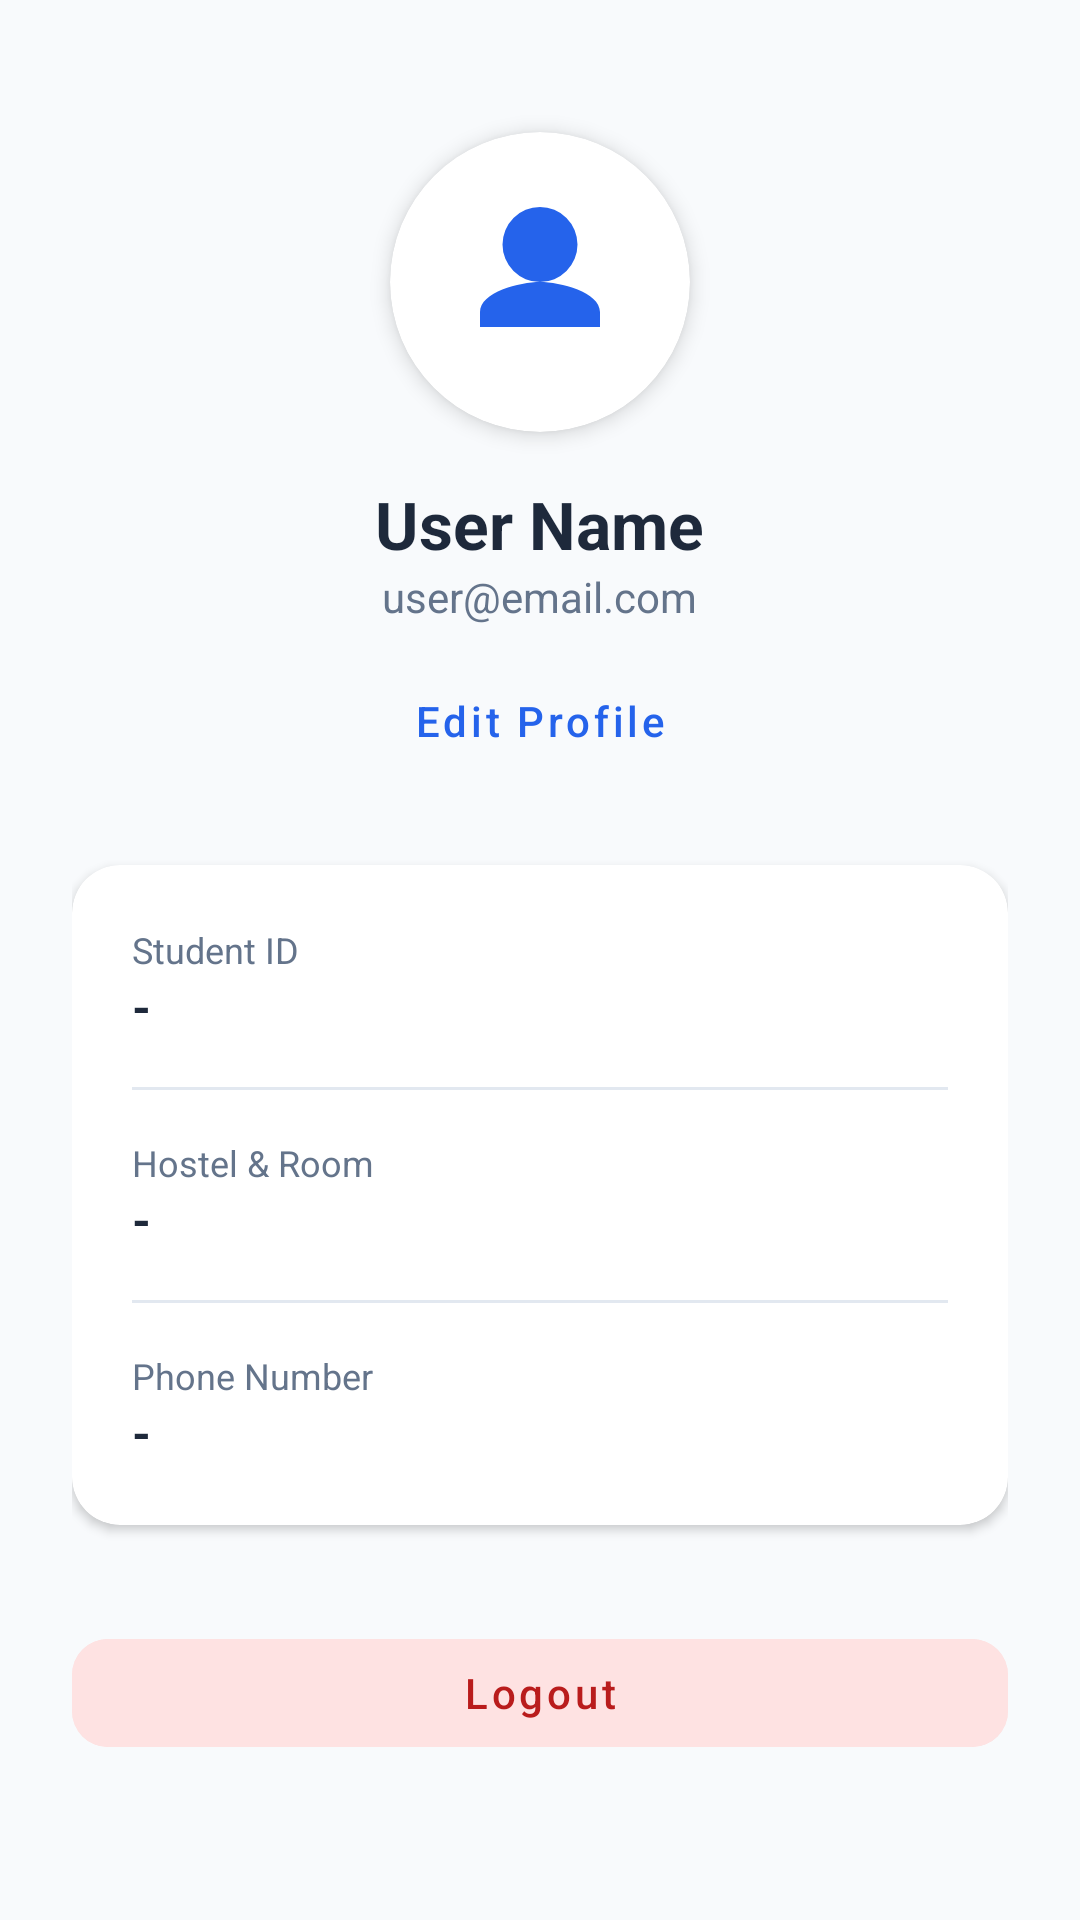

Screen size 1080×1920. Icon name, then its center in pixels as (x,y):
profile: (540,319)
